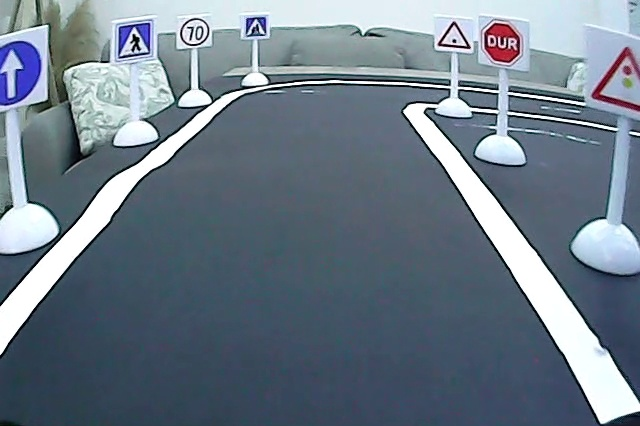green light: (437, 19, 473, 53)
pedestrian crossing: (115, 20, 152, 59)
red light: (589, 40, 640, 114)
school crossing: (242, 15, 269, 39)
speed limit 70: (179, 18, 212, 49)
stop sign: (479, 18, 525, 69)
